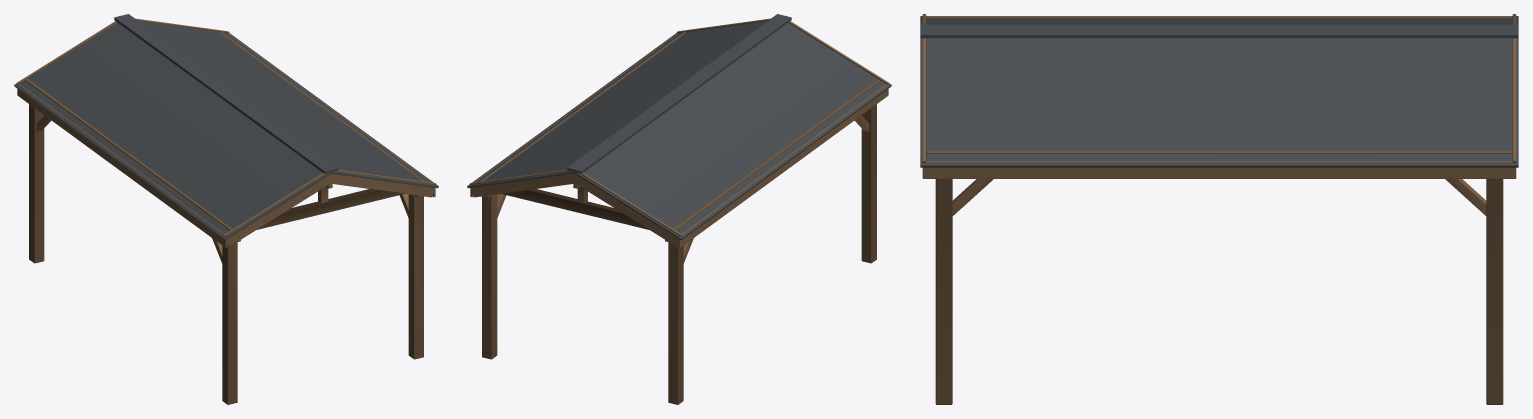
Rendered from carport.glb.
3 views of the same model, side by side, from view 1: azimuth 30°, elevation 25°; view 2: azimuth 150°, elevation 25°; view 3: azimuth 270°, elevation 25° (orthographic). The views are drawn at different scales.
Visible parts, largest first — view 1: body; view 2: body; view 3: body.
Part boxes in pixels (bbox=[...]): body: bbox=[14, 14, 438, 404]; body: bbox=[467, 14, 891, 404]; body: bbox=[920, 14, 1518, 404].
Size of the model in its own units: 2.95 by 2.84 by 5.
